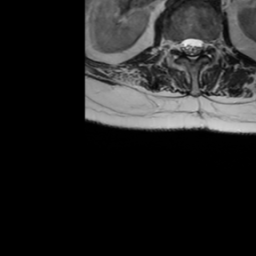CCS_normal: (188, 29, 196, 69)
LFS_normal: (204, 30, 211, 61)
LLS_normal: (196, 30, 204, 61)
RFS_normal: (172, 29, 180, 58)
RLS_normal: (180, 29, 188, 61)
